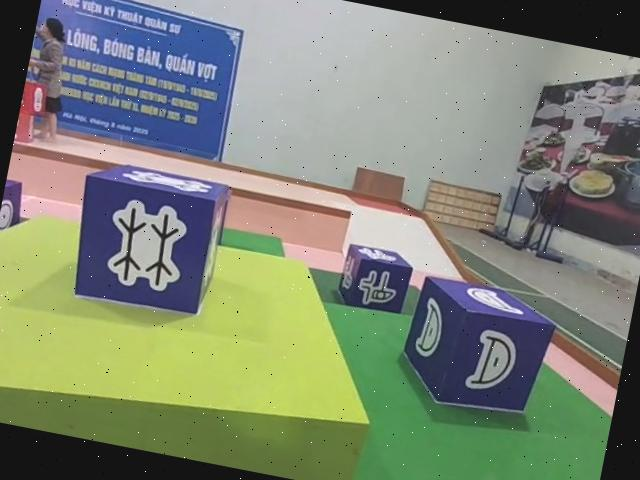R2 Real Blue: (66, 159, 235, 325), (395, 275, 560, 427), (333, 243, 414, 317), (0, 177, 23, 256)
